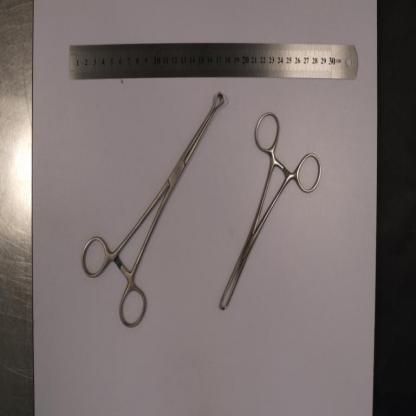8 Babcock Tissue Forceps: (82, 92, 226, 332)
Allis Tissue Forceps: (219, 111, 324, 311)
